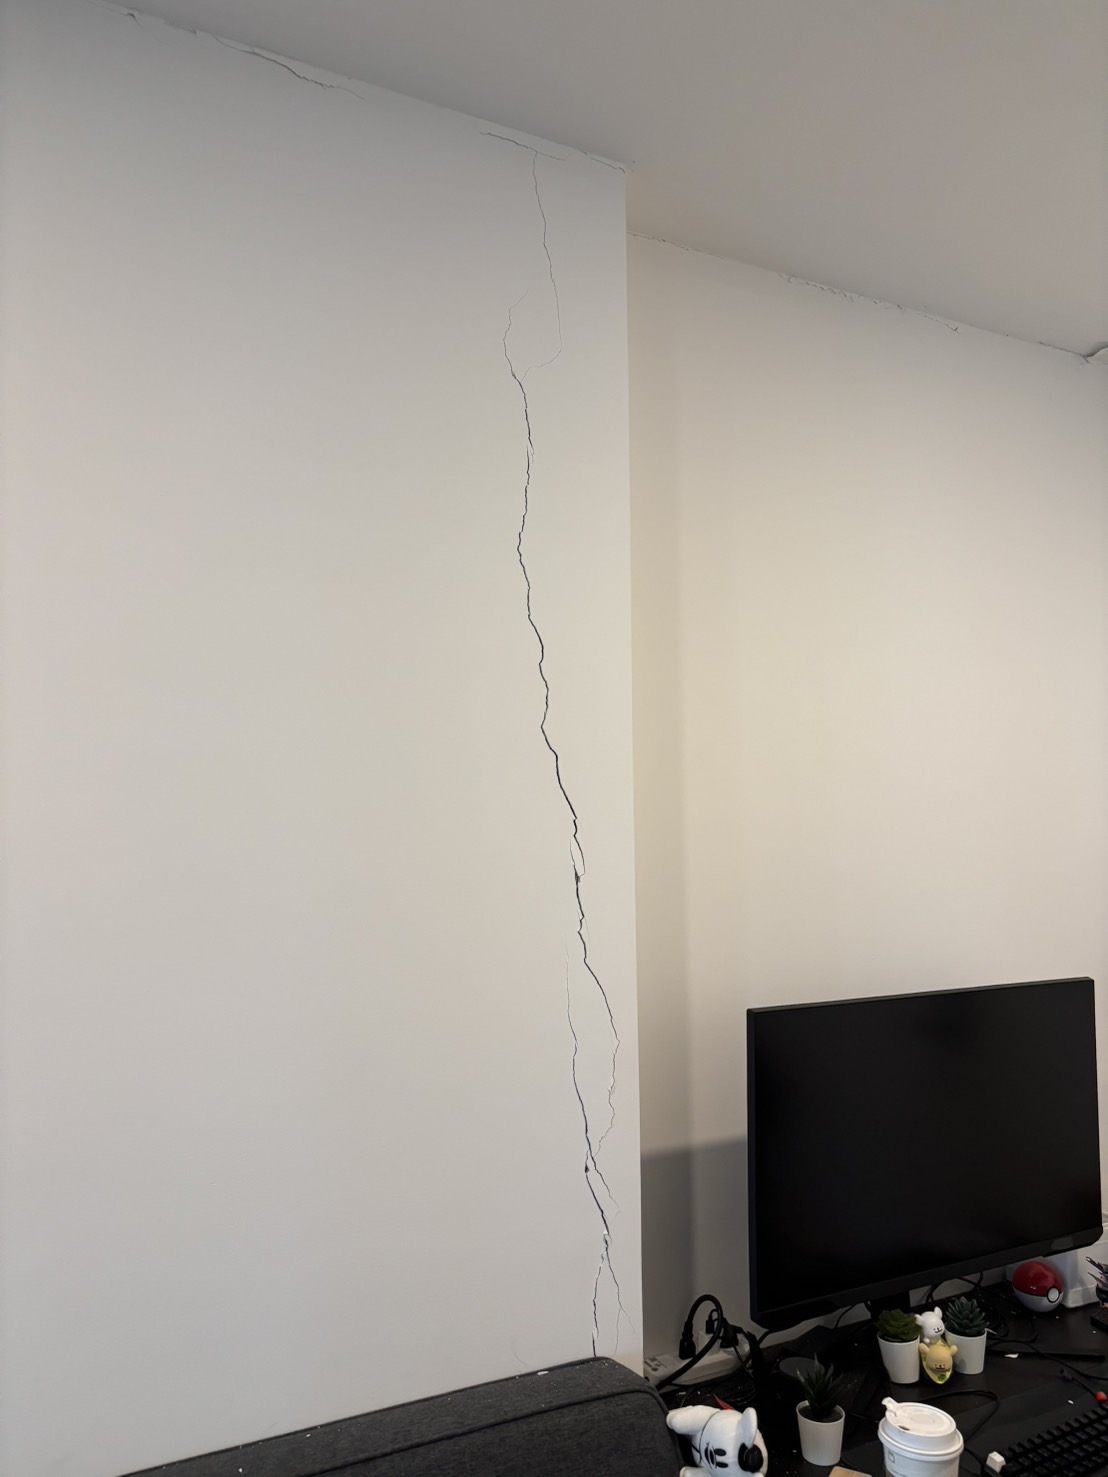Low: (466, 142, 631, 1361)
